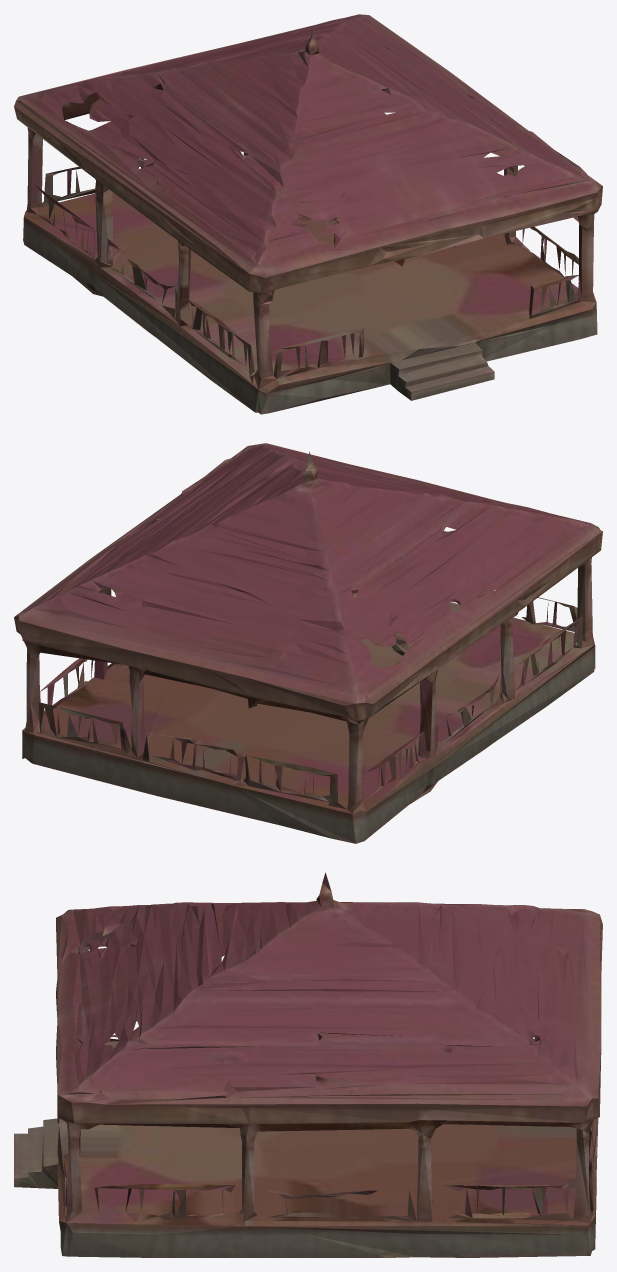
Rendered from park_bumper_pavilion_1117.glb.
3 views of the same model, one above another, from view 1: azimuth 30°, elevation 25°; view 2: azimuth 150°, elevation 25°; view 3: azimuth 270°, elevation 25° (orthographic). The views are drawn at different scales.
Parts seen in each view (by area): view 1: geometry_0; view 2: geometry_0; view 3: geometry_0.
Boxes of the visible parts, x1,y1,x2,y2 form: geometry_0: (14, 14, 602, 414); geometry_0: (14, 443, 602, 843); geometry_0: (14, 872, 602, 1257).
Size of the model in its own units: 1.43 by 1 by 1.82.
Materials: 1 (1 with a texture image).
